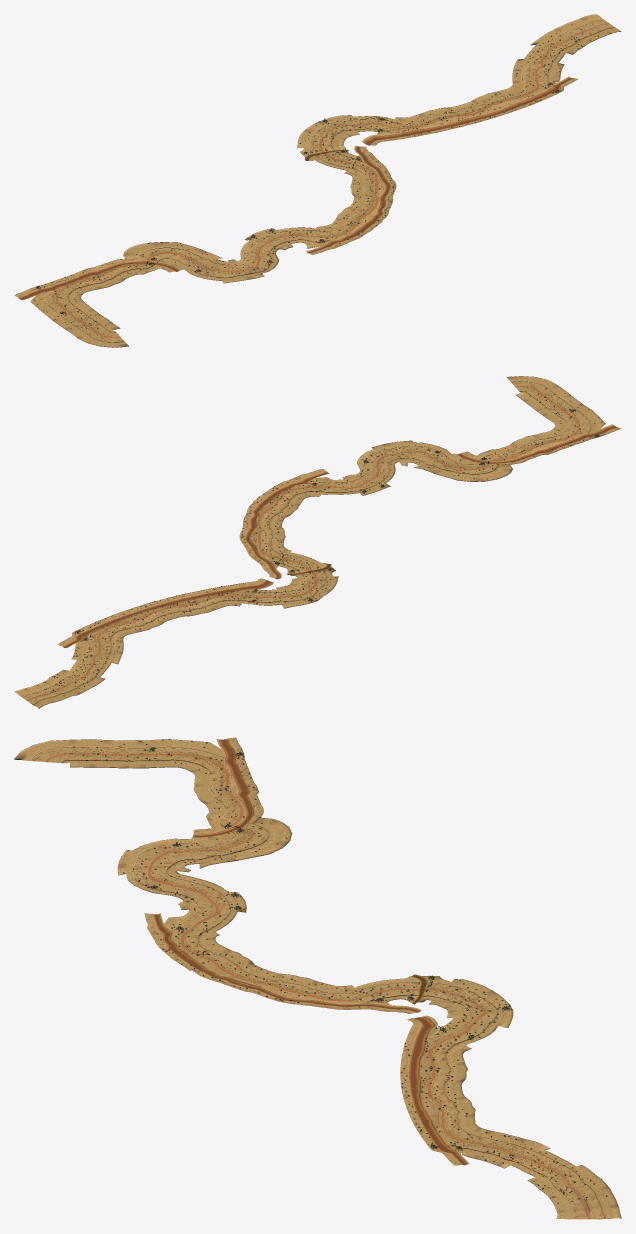
The model's file is kenya_stage2_visual.glb.
The picture shows the model from 3 angles, top to bottom: view 1: azimuth 30°, elevation 25°; view 2: azimuth 210°, elevation 25°; view 3: azimuth 270°, elevation 25°; orthographic projection. The views are drawn at different scales.
Parts seen in each view (by area): view 1: Track_Road_And_Terrain, Foliage_And_Vegetation; view 2: Track_Road_And_Terrain, Foliage_And_Vegetation; view 3: Track_Road_And_Terrain, Foliage_And_Vegetation.
Boxes of the visible parts, left/top/right/bottom form: Track_Road_And_Terrain: left=14, top=14, right=621, bottom=347; Foliage_And_Vegetation: left=30, top=24, right=599, bottom=337; Track_Road_And_Terrain: left=14, top=376, right=621, bottom=708; Foliage_And_Vegetation: left=37, top=386, right=603, bottom=696; Track_Road_And_Terrain: left=14, top=737, right=621, bottom=1219; Foliage_And_Vegetation: left=54, top=739, right=607, bottom=1210.
Size of the model in its own units: 4884 by 29.67 by 2602.
Materials: 67 (67 with a texture image).
